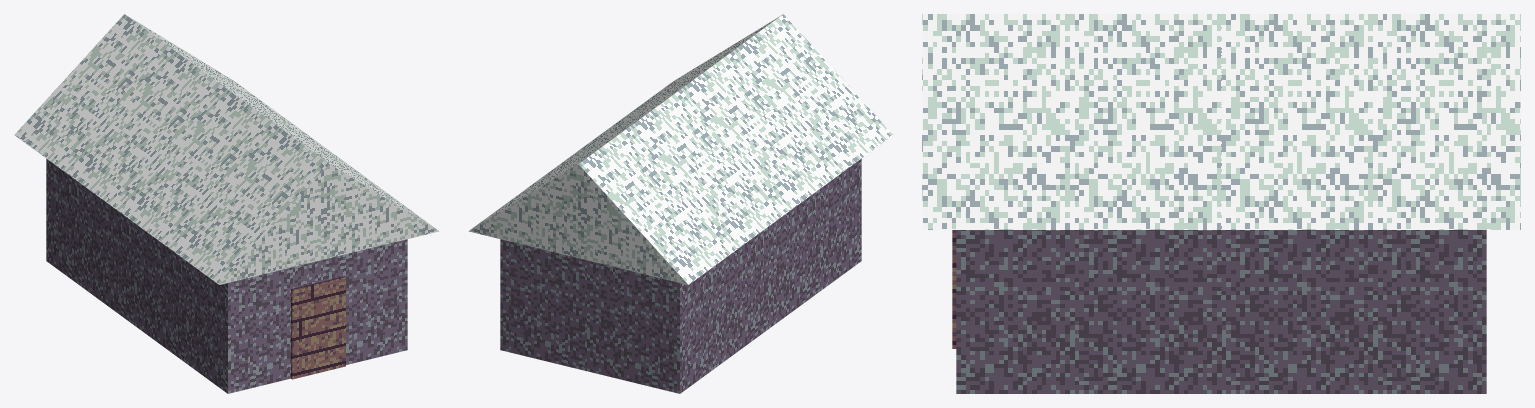
File: mosteiro_aurora_mosteiro.glb
The picture shows the model from 3 angles, left to right: view 1: azimuth 30°, elevation 25°; view 2: azimuth 150°, elevation 25°; view 3: azimuth 270°, elevation 25°; orthographic projection. The views are drawn at different scales.
Parts seen in each view (by area): view 1: mosteiro_aurora_mosteiro; view 2: mosteiro_aurora_mosteiro; view 3: mosteiro_aurora_mosteiro.
Part boxes in pixels (bbox=[...]): mosteiro_aurora_mosteiro: bbox=[14, 14, 439, 393]; mosteiro_aurora_mosteiro: bbox=[468, 14, 893, 393]; mosteiro_aurora_mosteiro: bbox=[922, 14, 1520, 393].
Size of the model in its own units: 4.9 by 4.6 by 7.9.
3 materials, 3 textured.
